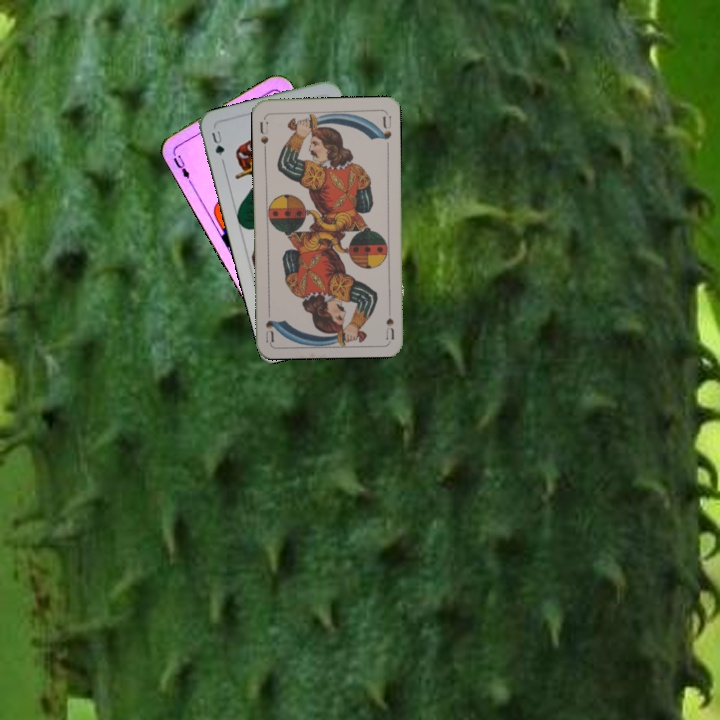EU: (169, 146, 194, 184)
GU: (207, 126, 227, 159)
SU: (382, 300, 397, 341), (256, 117, 271, 154)
